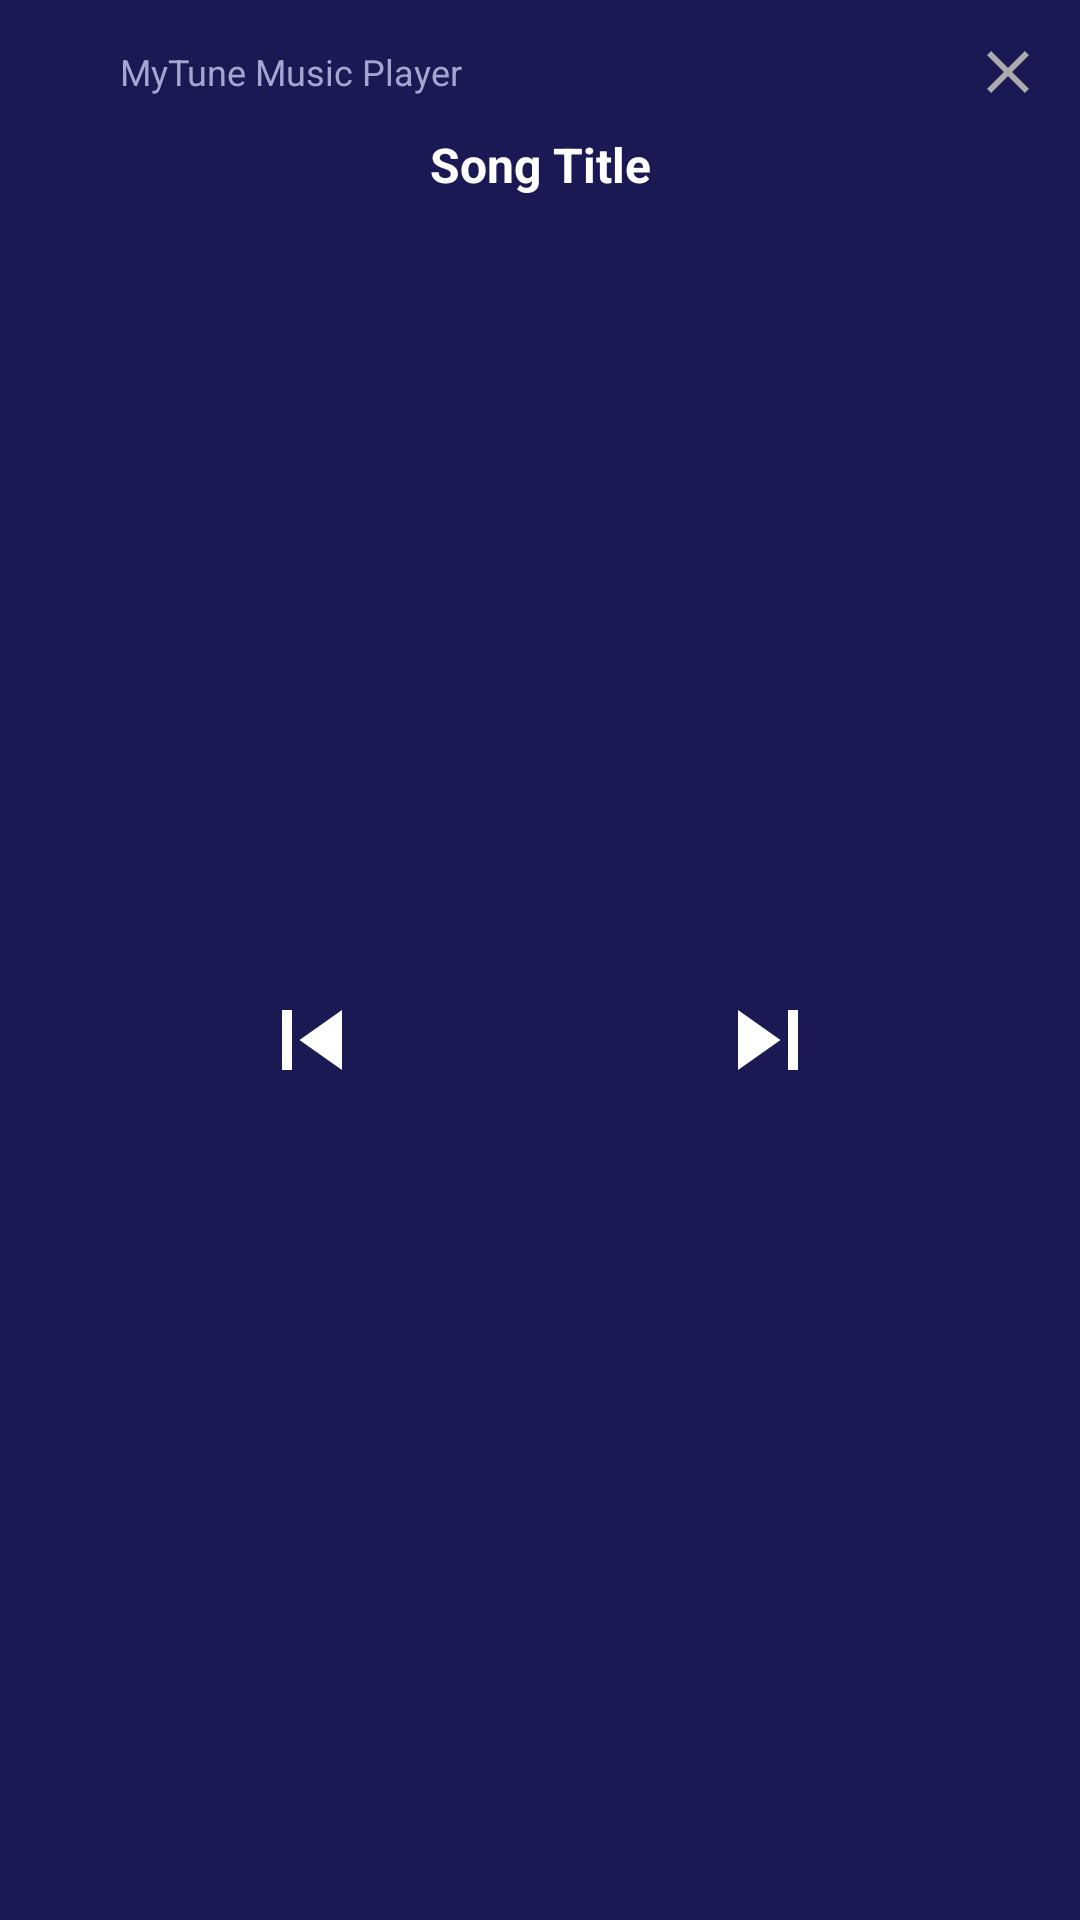

Screen size 1080w x 1920h. Icon name, then its box in pixels as (x1,y1,x2,y2):
close: (987,51,1029,93)
next: (738,1010,798,1070)
previous: (282,1010,342,1070)
